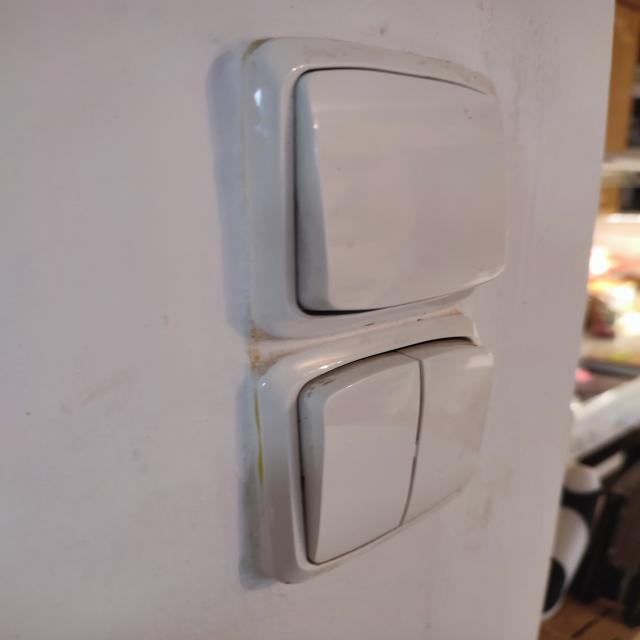house switch: (244, 46, 508, 338)
house switch double: (261, 319, 495, 586)
